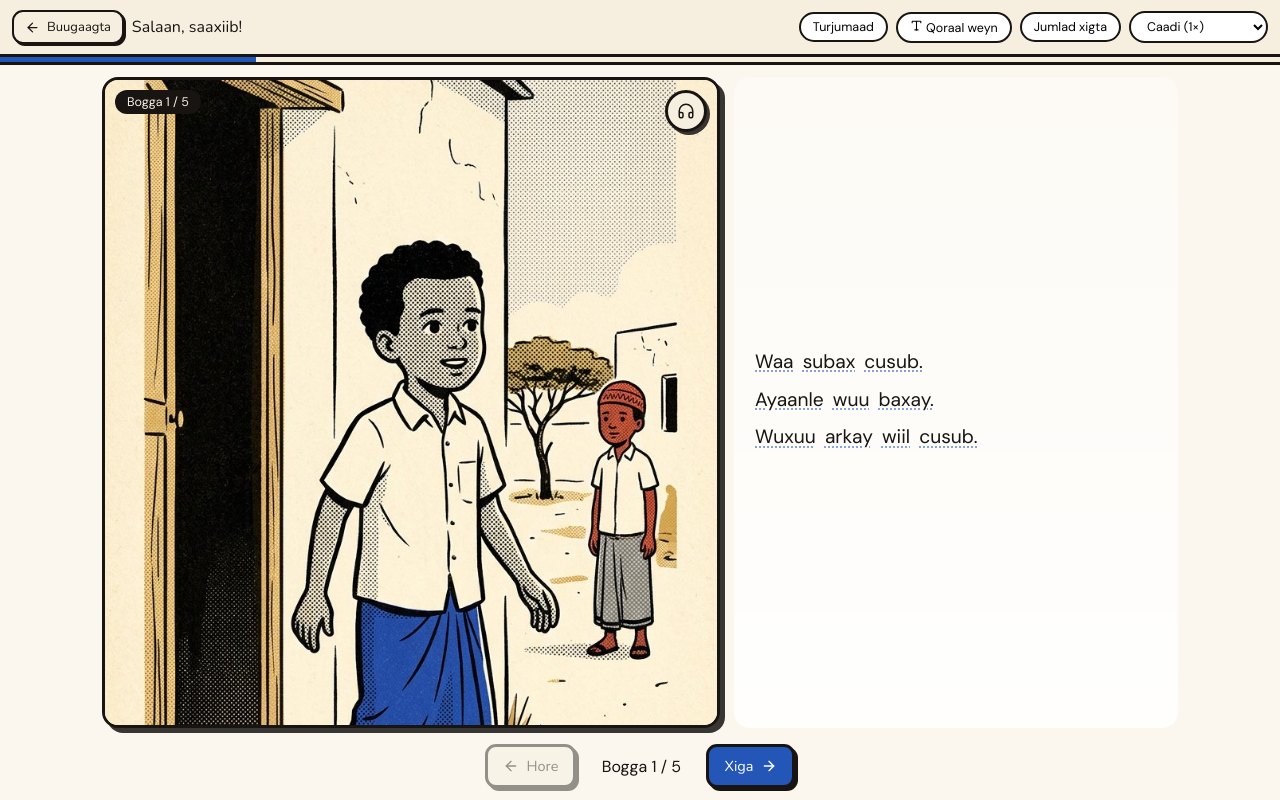
it: book reader › opens a vocabulary meaning and marks the word as seen
Click the button "Xiga" at [750, 766], box [706,744,794,788]
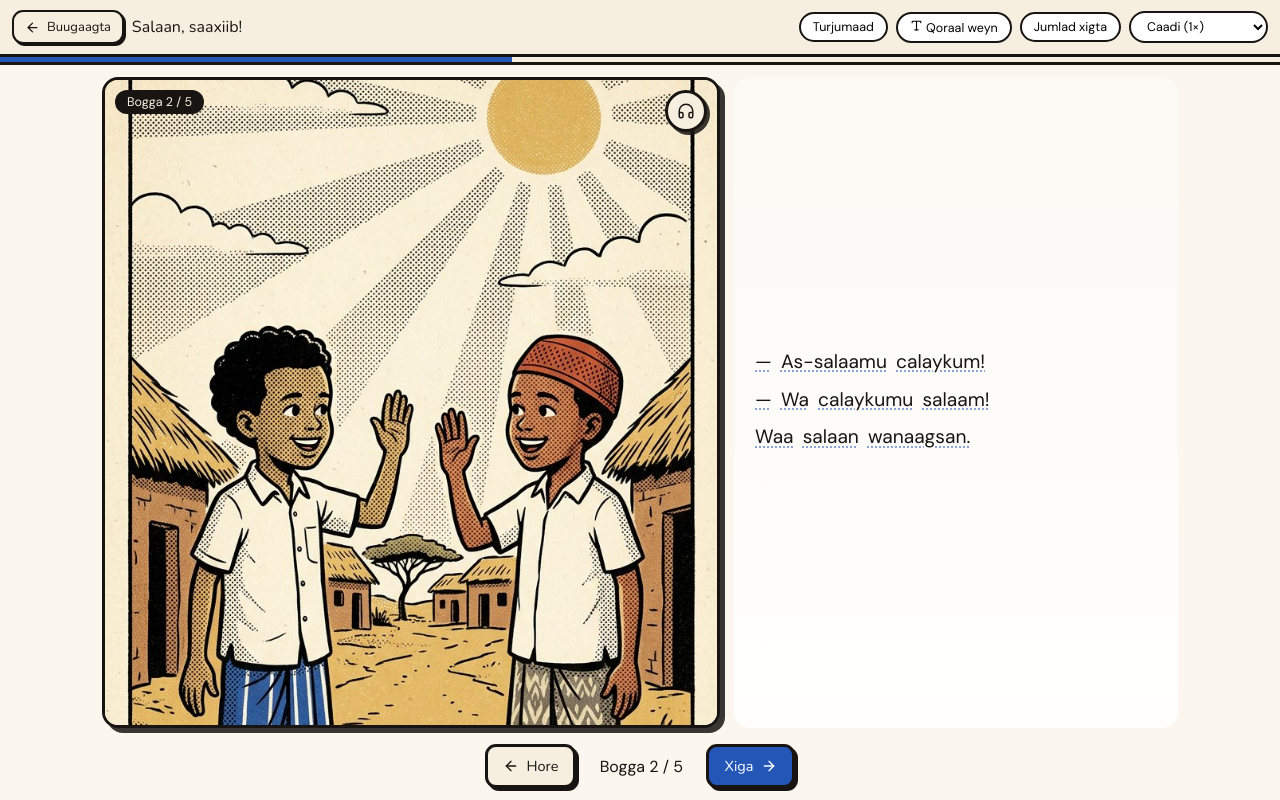
Click the button with aria-label "Erayga salaan" at [831, 437], box [801,421,861,453]
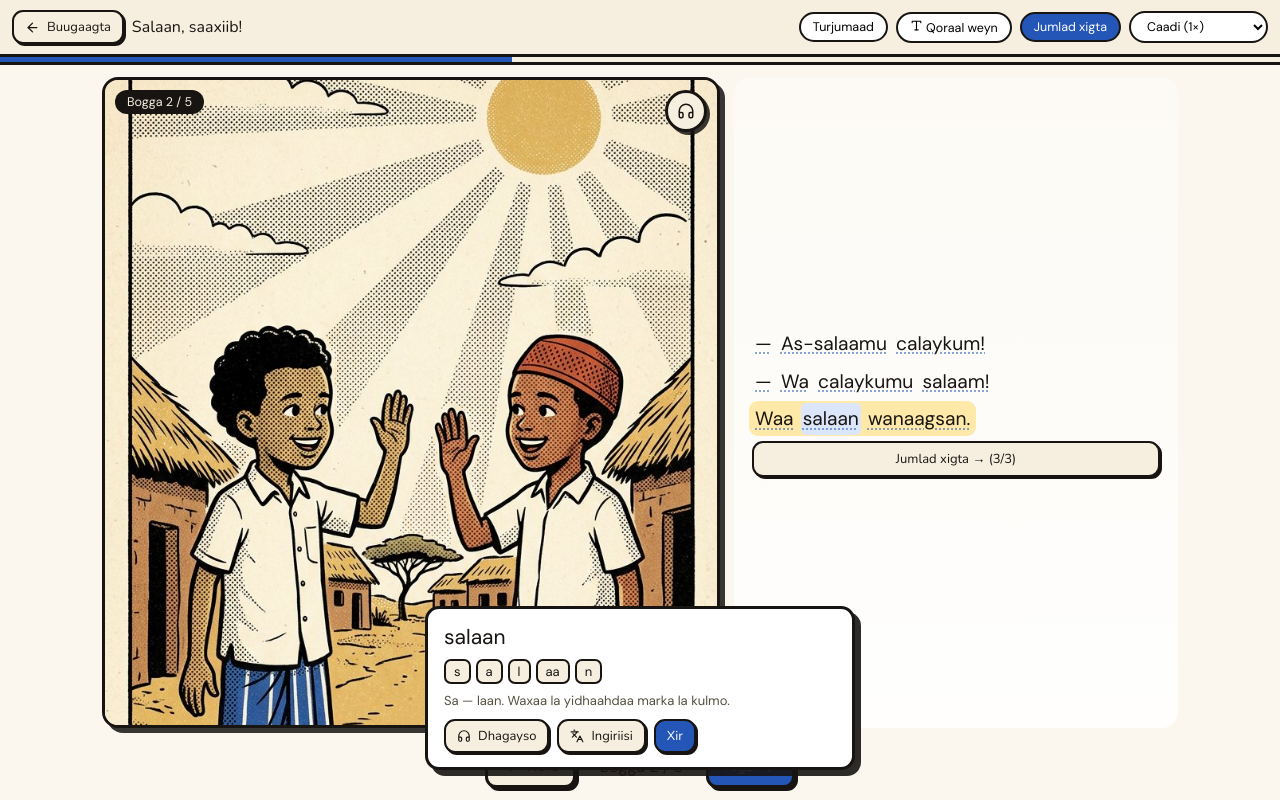
Expected: the text "greeting" is not shown
Click the button "Ingiriisi" at [602, 736], box [557,719,646,753]
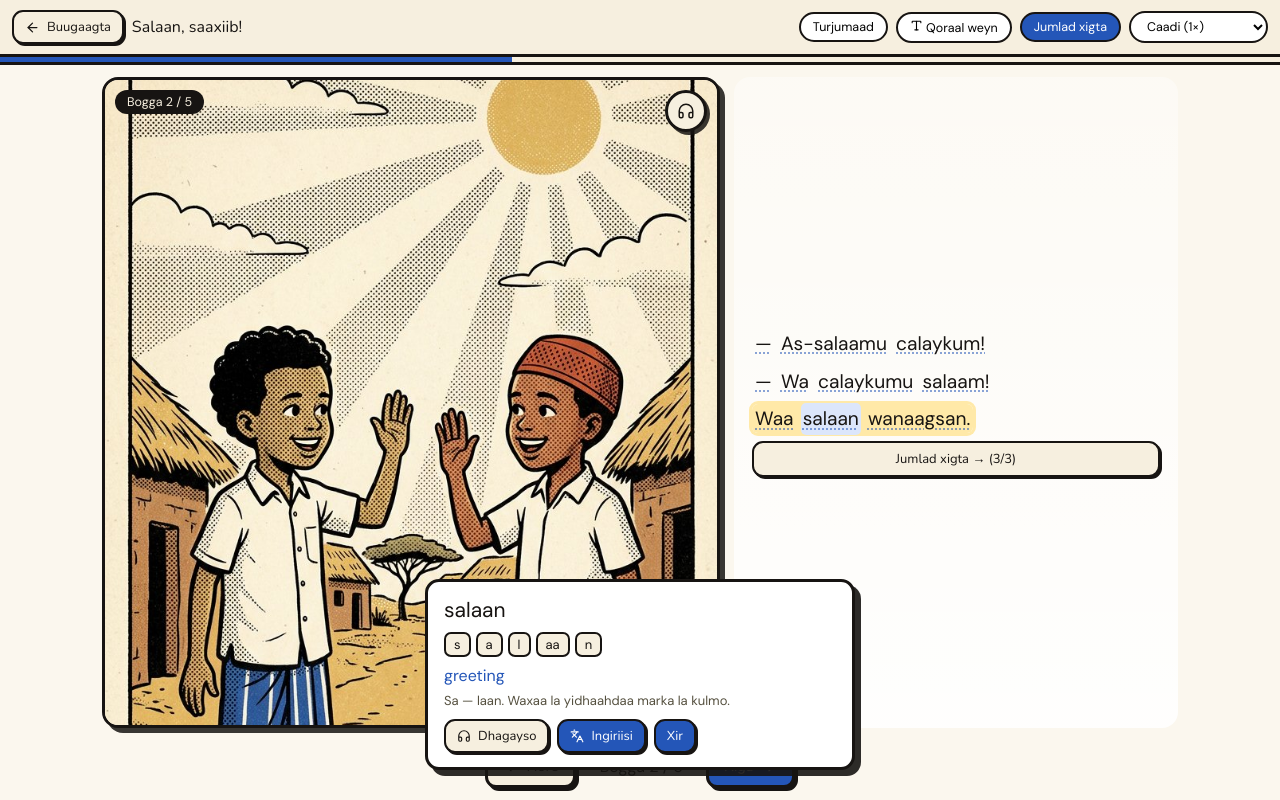
Result: the button "Xir" is shown at [654,719,696,753]
Result: the text "greeting" is shown at [444,665,505,686]
